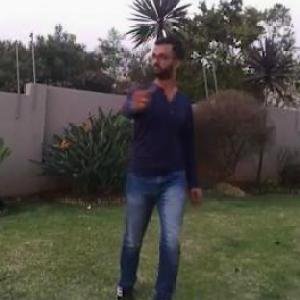takeoff-hand: (120, 80, 154, 113)
